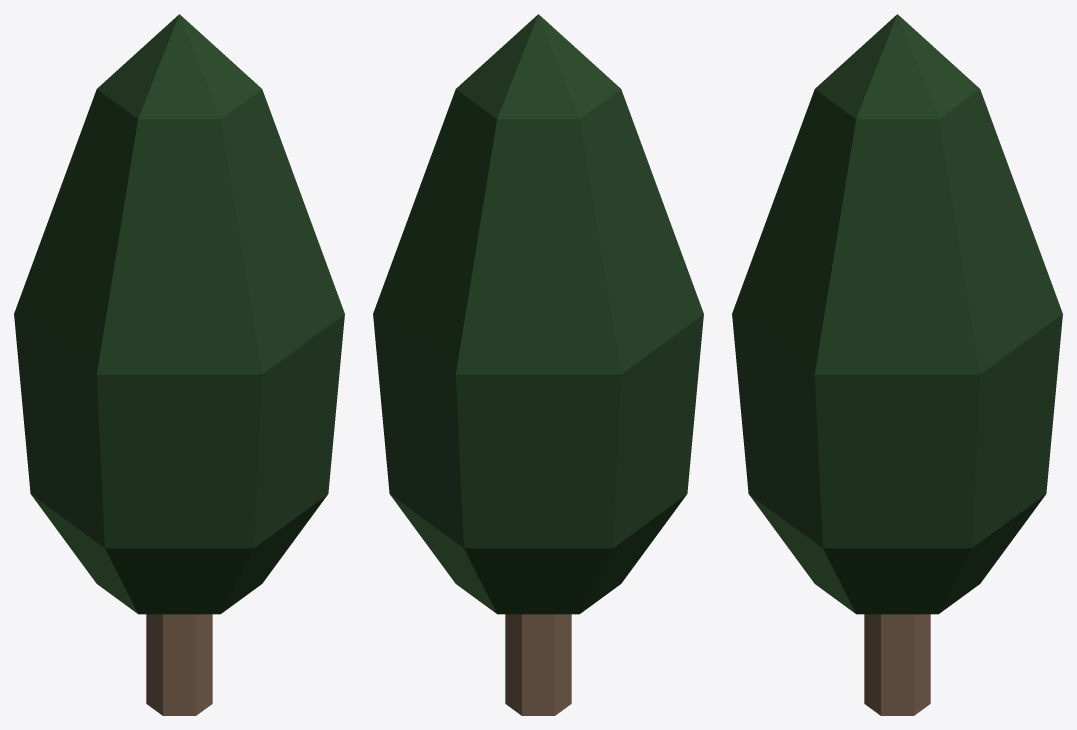
The model's file is Hilly_Prop_Tree_Cedar_1.obj.
3 views of the same model, side by side, from view 1: azimuth 30°, elevation 25°; view 2: azimuth 150°, elevation 25°; view 3: azimuth 270°, elevation 25° (orthographic).
Visible parts, largest first — view 1: object2, object1; view 2: object2, object1; view 3: object2, object1.
Part boxes in pixels (x1,y1,x2,y2): object2: (14, 14, 344, 614); object1: (146, 614, 212, 715); object2: (373, 14, 703, 614); object1: (505, 614, 571, 715); object2: (732, 14, 1062, 614); object1: (864, 614, 930, 715).
Size of the model in its own units: 0.866 by 2.3 by 1.
